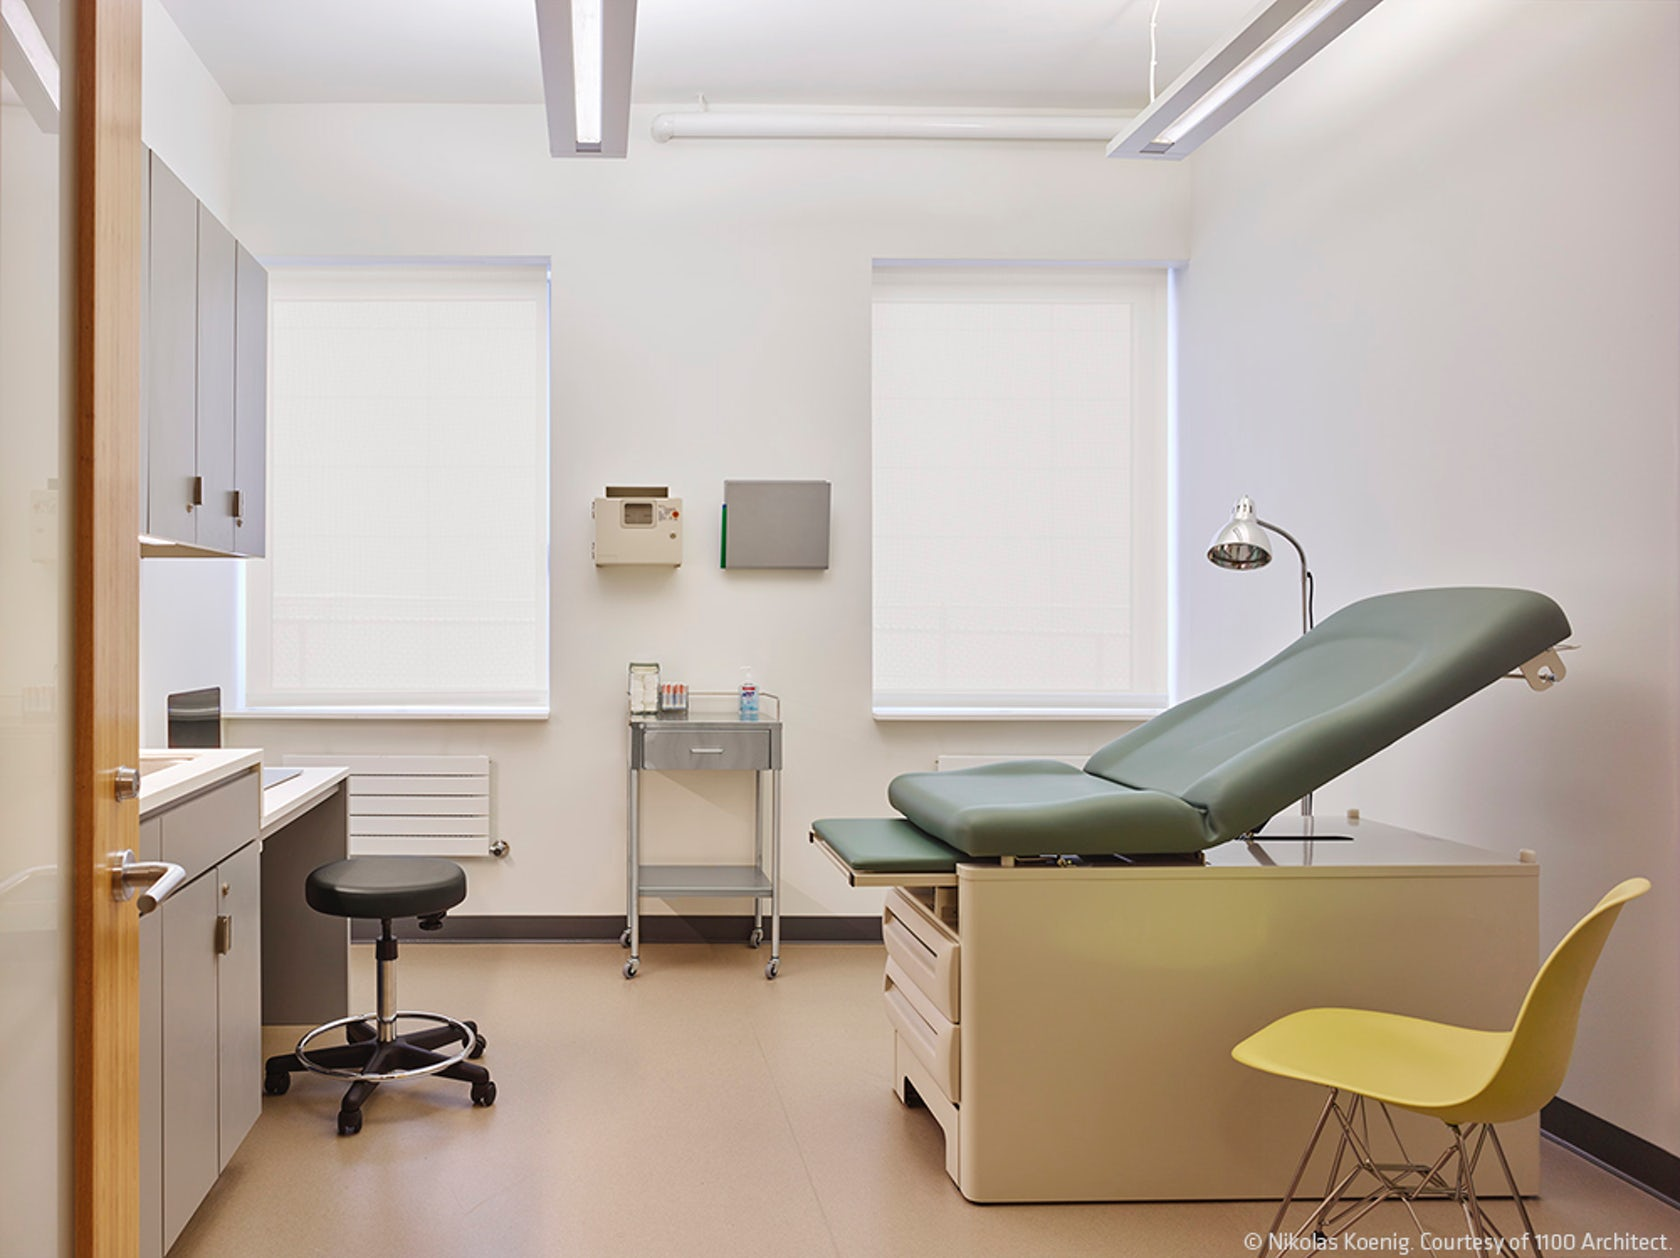cabinet: (122, 129, 265, 558)
chair: (1232, 871, 1652, 1258), (288, 852, 493, 1134)
computer: (162, 684, 295, 792)
counter: (90, 743, 314, 1197)
countertop: (132, 741, 263, 818)
door_handle: (125, 858, 189, 910)
exam_table: (812, 584, 1566, 869)
handle: (217, 914, 232, 954), (691, 745, 725, 760), (193, 477, 201, 505), (231, 492, 240, 515)
medical_drawer: (586, 481, 688, 573)
surgical_light: (1201, 496, 1278, 573)
table: (262, 765, 353, 1028)
utility_cart: (626, 708, 778, 980)
